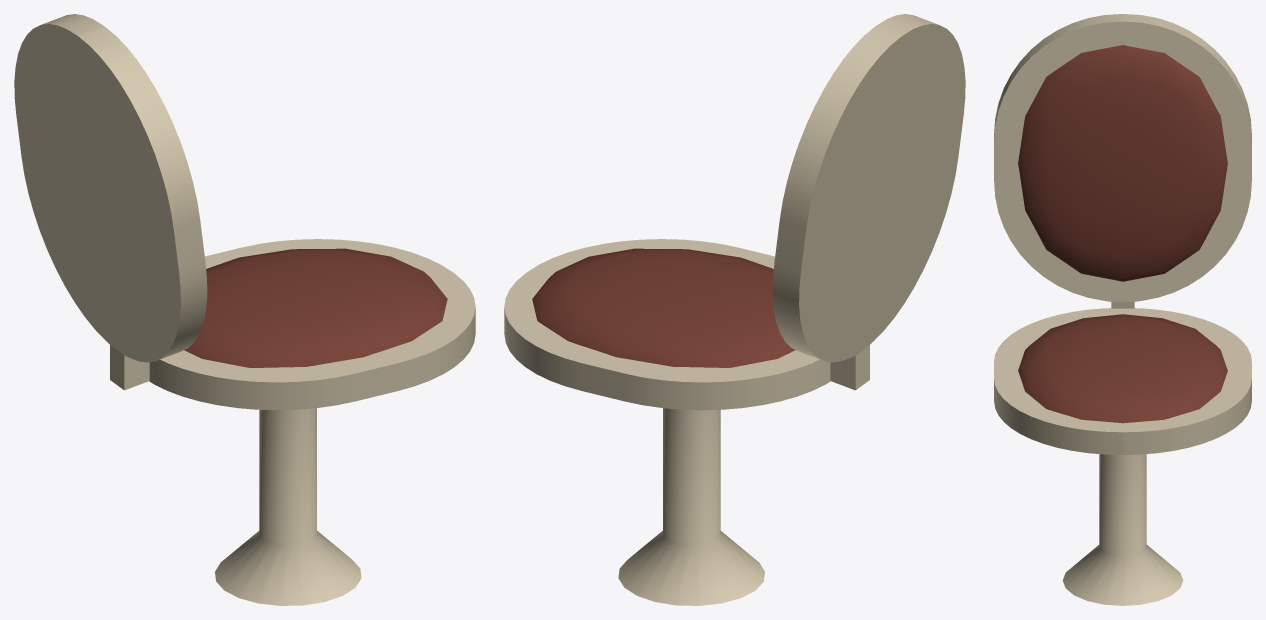
The model's file is chairWithLamberts.fbx.
3 views of the same model, side by side, from view 1: azimuth 30°, elevation 25°; view 2: azimuth 150°, elevation 25°; view 3: azimuth 270°, elevation 25° (orthographic). The views are drawn at different scales.
Visible parts, largest first — view 1: chairPlaceeholder; view 2: chairPlaceeholder; view 3: chairPlaceeholder.
Part boxes in pixels (box(x1,y1,x2,y2)): chairPlaceeholder: box(14, 14, 475, 605); chairPlaceeholder: box(504, 14, 965, 605); chairPlaceeholder: box(994, 14, 1251, 605).
Size of the model in its own units: 8.93 by 13.49 by 6.49.
